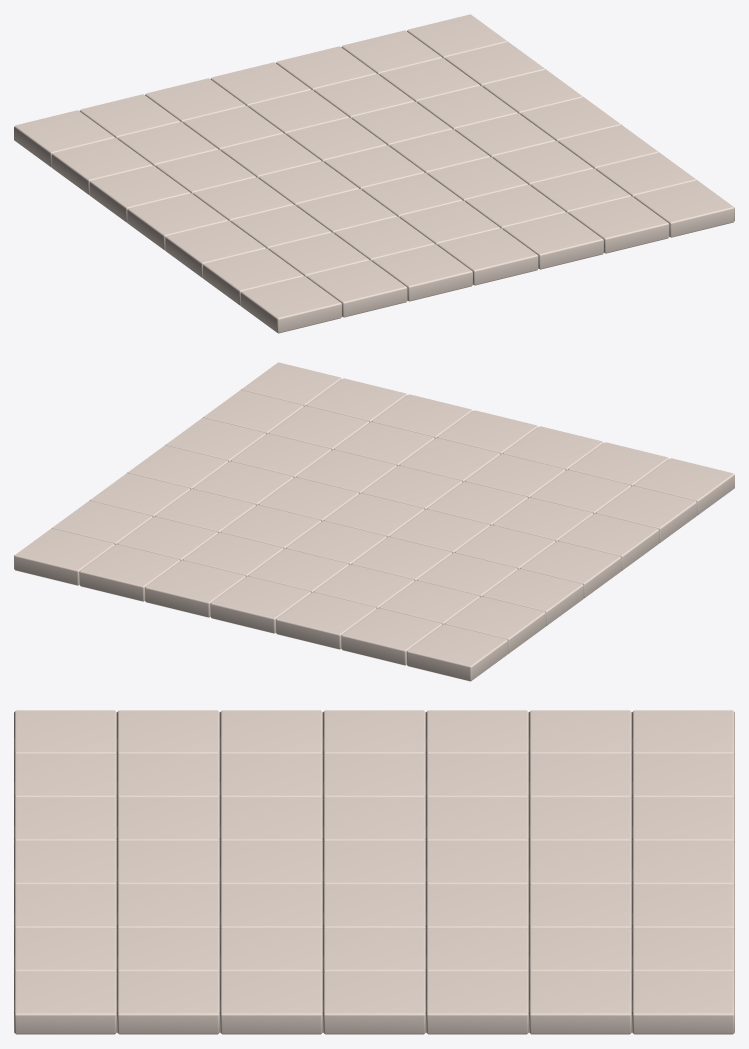
The model's file is Tile_1.glb.
3 views of the same model, one above another, from view 1: azimuth 30°, elevation 25°; view 2: azimuth 150°, elevation 25°; view 3: azimuth 270°, elevation 25° (orthographic). The views are drawn at different scales.
Visible parts, largest first — view 1: Tile_1; view 2: Tile_1; view 3: Tile_1.
Part boxes in pixels (x1,y1,x2,y2): Tile_1: (14, 14, 734, 333); Tile_1: (14, 362, 734, 681); Tile_1: (14, 710, 734, 1034).
Bounding box in the file's own units: 4.6 × 0.154 × 4.6.
1 material, 1 textured.
